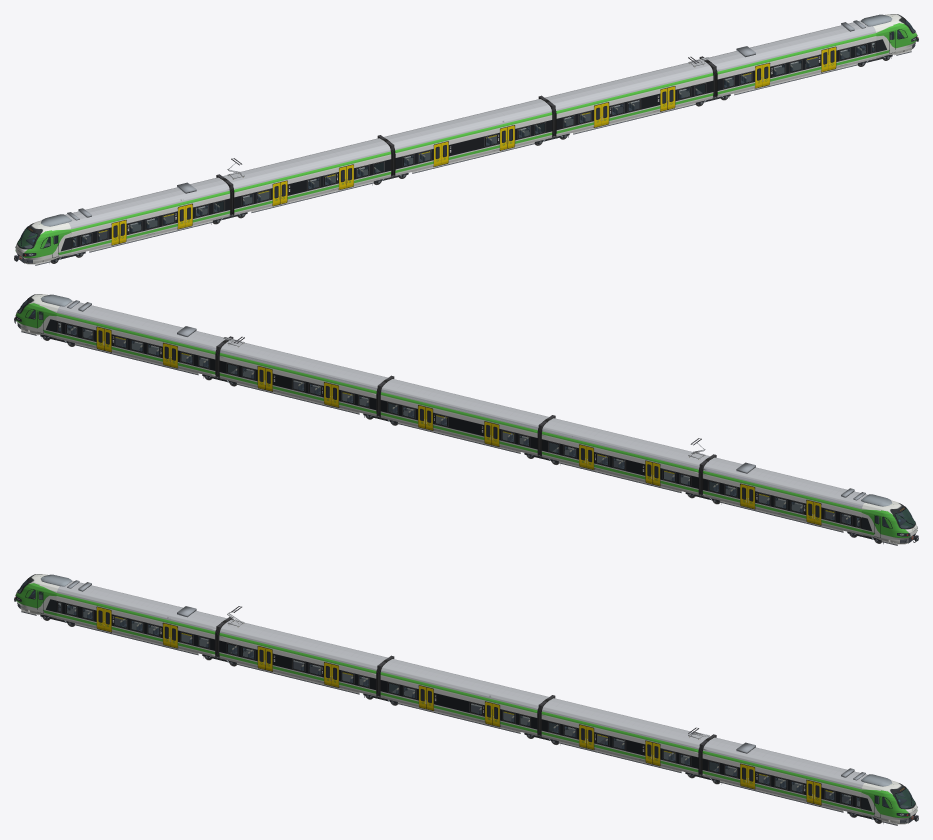
The model's file is FLIRT_KM.glb.
The picture shows the model from 3 angles, top to bottom: view 1: azimuth 30°, elevation 25°; view 2: azimuth 150°, elevation 25°; view 3: azimuth 330°, elevation 25°; orthographic projection.
Parts seen in each view (by area): view 1: FK_czlon3, FK_czlon2, FK_czlon4, FK_czlon5, FK_czlon1, Szyby boczne i uszczelki, FK_guma, Wnętrze pasażerskie, Poszycie kabiny ER A, Poszycie kabiny ER B, FK_fbia, FK_fsza (+2 smaller); view 2: FK_czlon3, FK_czlon2, FK_czlon4, FK_czlon1, FK_czlon5, Szyby boczne i uszczelki, FK_guma, Wnętrze pasażerskie, Poszycie kabiny ER A, Poszycie kabiny ER B, FK_fbia, FK_fsza (+2 smaller); view 3: FK_czlon3, FK_czlon4, FK_czlon2, FK_czlon1, FK_czlon5, Szyby boczne i uszczelki, FK_guma, Wnętrze pasażerskie, Poszycie kabiny ER B, Poszycie kabiny ER A, FK_fbia, FK_fsza (+2 smaller).
Boxes of the visible parts, left/top/right/bottom form: FK_czlon3: left=384, top=99, right=552, bottom=175; FK_czlon2: left=223, top=138, right=391, bottom=215; FK_czlon4: left=545, top=59, right=713, bottom=136; FK_czlon5: left=707, top=20, right=876, bottom=97; FK_czlon1: left=65, top=177, right=230, bottom=254; Szyby boczne i uszczelki: left=73, top=42, right=874, bottom=246; FK_guma: left=72, top=41, right=875, bottom=247; Wnętrze pasażerskie: left=71, top=45, right=873, bottom=249; Poszycie kabiny ER A: left=15, top=220, right=71, bottom=264; Poszycie kabiny ER B: left=872, top=14, right=917, bottom=58; FK_fbia: left=35, top=50, right=911, bottom=264; FK_fsza: left=35, top=51, right=911, bottom=265; FK_czlon3: left=380, top=379, right=548, bottom=455; FK_czlon2: left=541, top=418, right=709, bottom=495; FK_czlon4: left=219, top=339, right=387, bottom=416; FK_czlon1: left=702, top=457, right=867, bottom=534; FK_czlon5: left=56, top=300, right=226, bottom=377; Szyby boczne i uszczelki: left=58, top=322, right=859, bottom=526; FK_guma: left=57, top=321, right=860, bottom=527; Wnętrze pasażerskie: left=59, top=325, right=859, bottom=526; Poszycie kabiny ER A: left=861, top=500, right=917, bottom=544; Poszycie kabiny ER B: left=15, top=294, right=60, bottom=338; FK_fbia: left=21, top=330, right=897, bottom=544; FK_fsza: left=21, top=331, right=897, bottom=545; FK_czlon3: left=380, top=659, right=548, bottom=735; FK_czlon4: left=541, top=698, right=709, bottom=775; FK_czlon2: left=219, top=619, right=387, bottom=696; FK_czlon1: left=56, top=580, right=226, bottom=657; FK_czlon5: left=702, top=737, right=867, bottom=814; Szyby boczne i uszczelki: left=58, top=602, right=859, bottom=806; FK_guma: left=57, top=601, right=860, bottom=807; Wnętrze pasażerskie: left=67, top=605, right=861, bottom=809; Poszycie kabiny ER B: left=861, top=780, right=917, bottom=824; Poszycie kabiny ER A: left=15, top=574, right=68, bottom=618; FK_fbia: left=21, top=610, right=897, bottom=824; FK_fsza: left=21, top=611, right=897, bottom=825.
Size of the model in its own units: 98.2 by 5.6 by 2.96.
57 materials, 11 textured.
